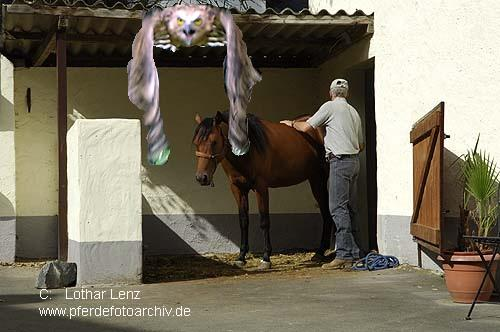tampered: (128, 4, 262, 165)
